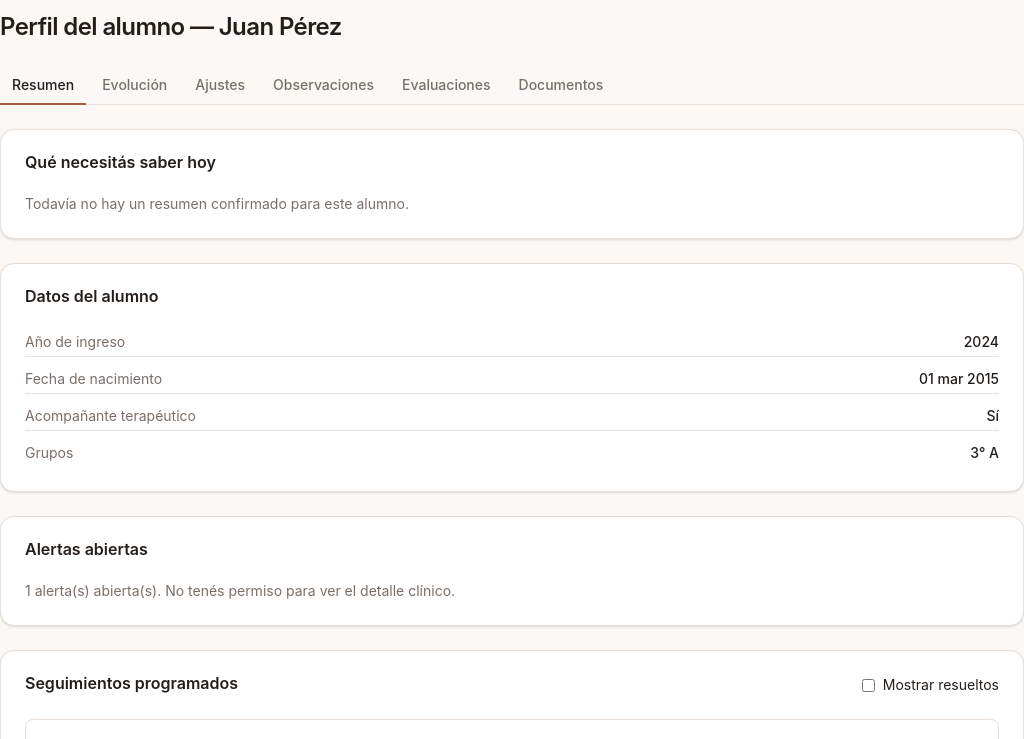
Test case: StudentTrackingPage › shows, next to each grade, the accommodations that were active that day
Click the tab "Evaluaciones": (446, 86) [390,67,502,105]
(page scrolled)
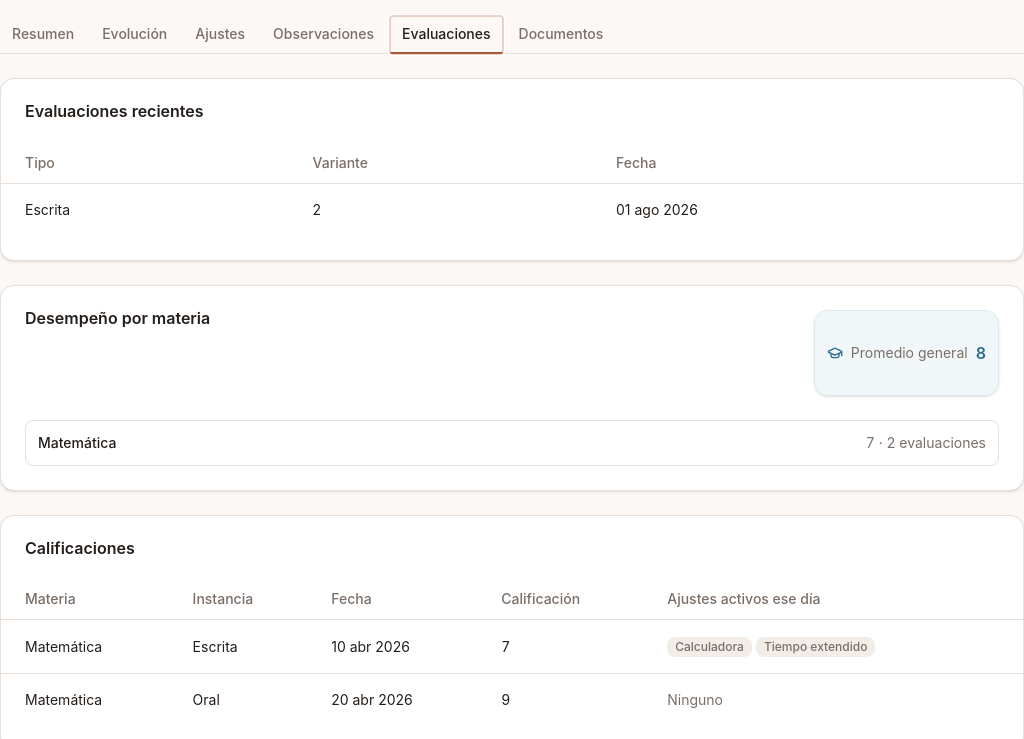
Now the column heading "Ajustes activos ese día" is shown, box [651,580,1023,620]
Now the list items read "Calculadora", "Tiempo extendido", in this order, box [667,636,752,657]; [756,636,875,657]
Now the text "Ninguno" is shown, box [667,691,723,708]
